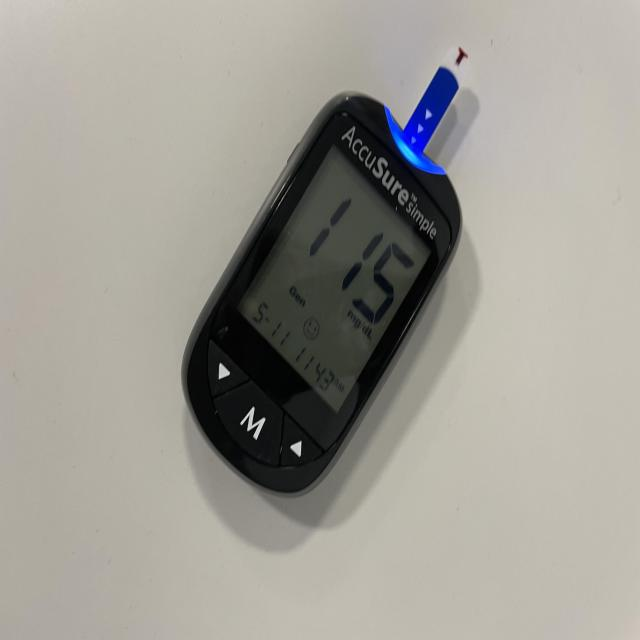gluco: (180, 69, 470, 553)
